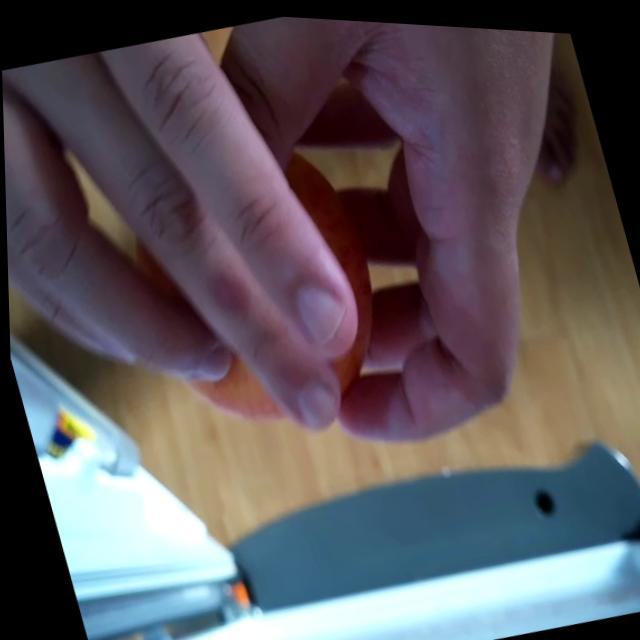apple: (131, 117, 409, 439)
